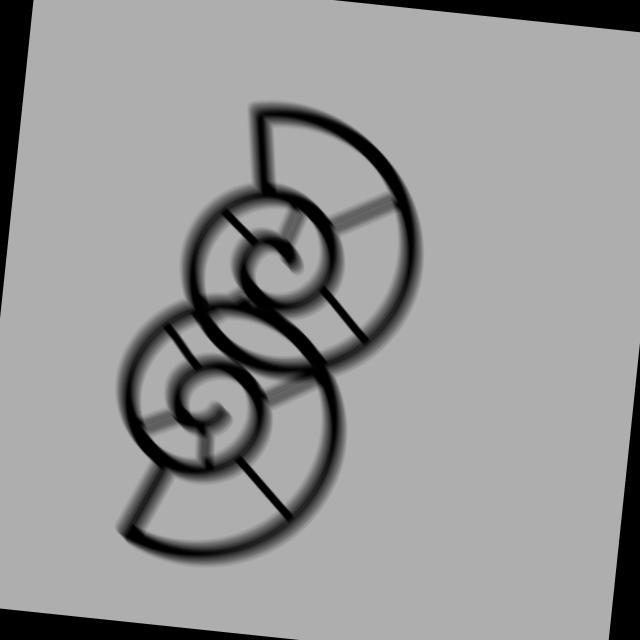fossil: (87, 277, 371, 592), (155, 89, 445, 394)
